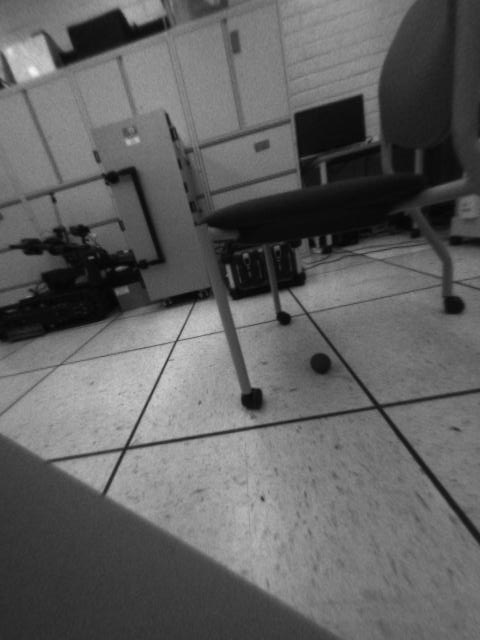dogtoy: (304, 348, 338, 377)
